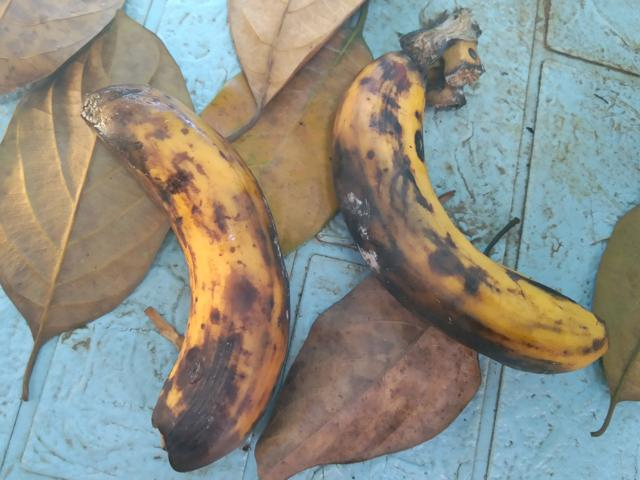rotten: (330, 47, 627, 407), (77, 64, 286, 470)
